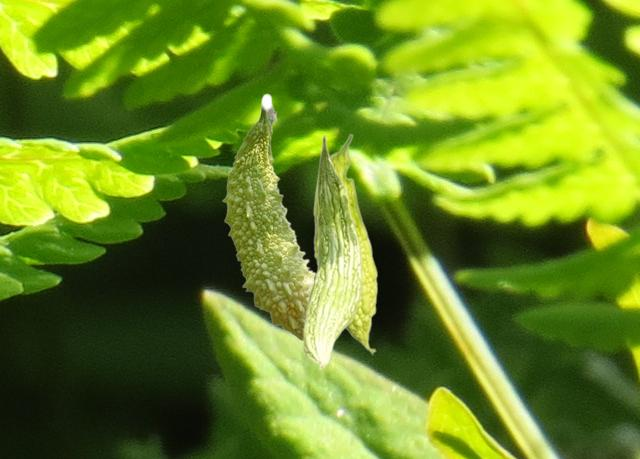ampalaya: (221, 93, 315, 341), (311, 131, 379, 357), (300, 133, 363, 371)
